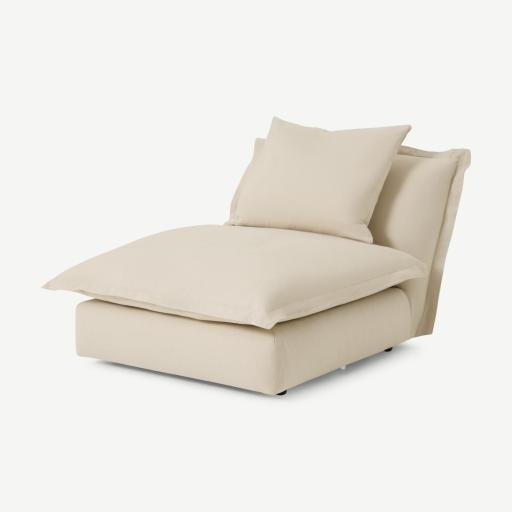back_cushion: (227, 117, 410, 243)
base: (76, 288, 410, 394)
left_arm: (369, 146, 469, 336)
seat_cushion: (44, 226, 426, 329)
